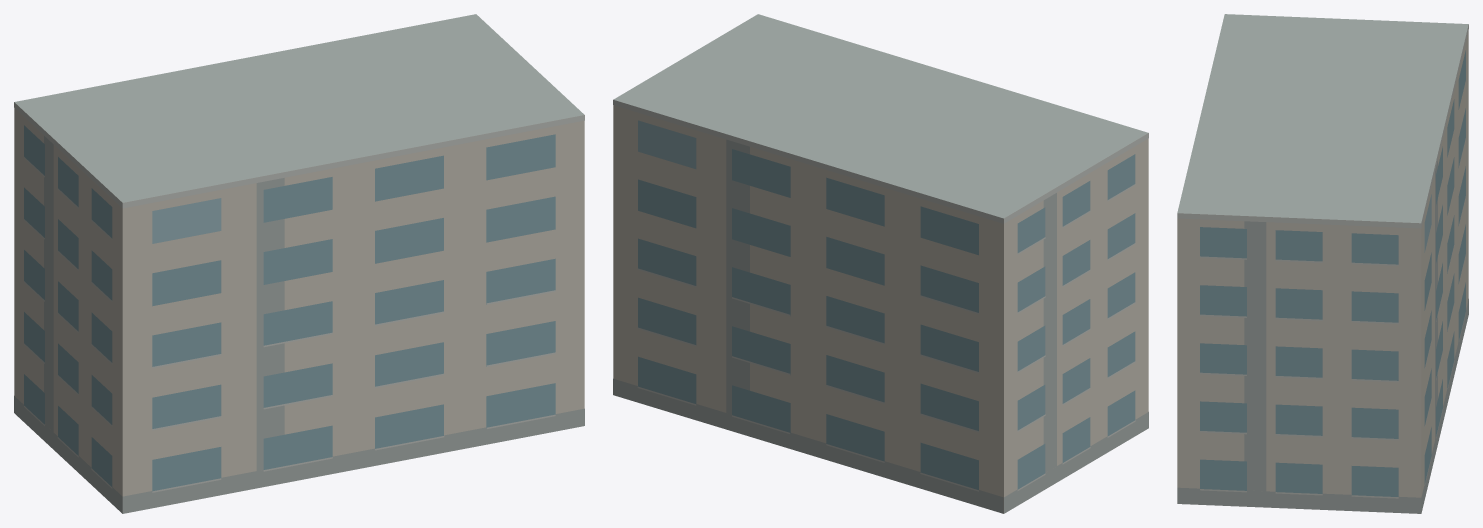
Rendered from survey-upis-32923167.glb.
3 renders of one model, left to right at view 1: azimuth 30°, elevation 25°; view 2: azimuth 150°, elevation 25°; view 3: azimuth 270°, elevation 25°, orthographic. The views are drawn at different scales.
Visible parts, largest first — view 1: survey-upis-32923167.tmp; view 2: survey-upis-32923167.tmp; view 3: survey-upis-32923167.tmp.
Boxes of the visible parts, bbox=[...] form: survey-upis-32923167.tmp: bbox=[14, 14, 584, 513]; survey-upis-32923167.tmp: bbox=[613, 14, 1148, 513]; survey-upis-32923167.tmp: bbox=[1177, 14, 1468, 513].
Size of the model in its own units: 20.69 by 13.4 by 12.19.
